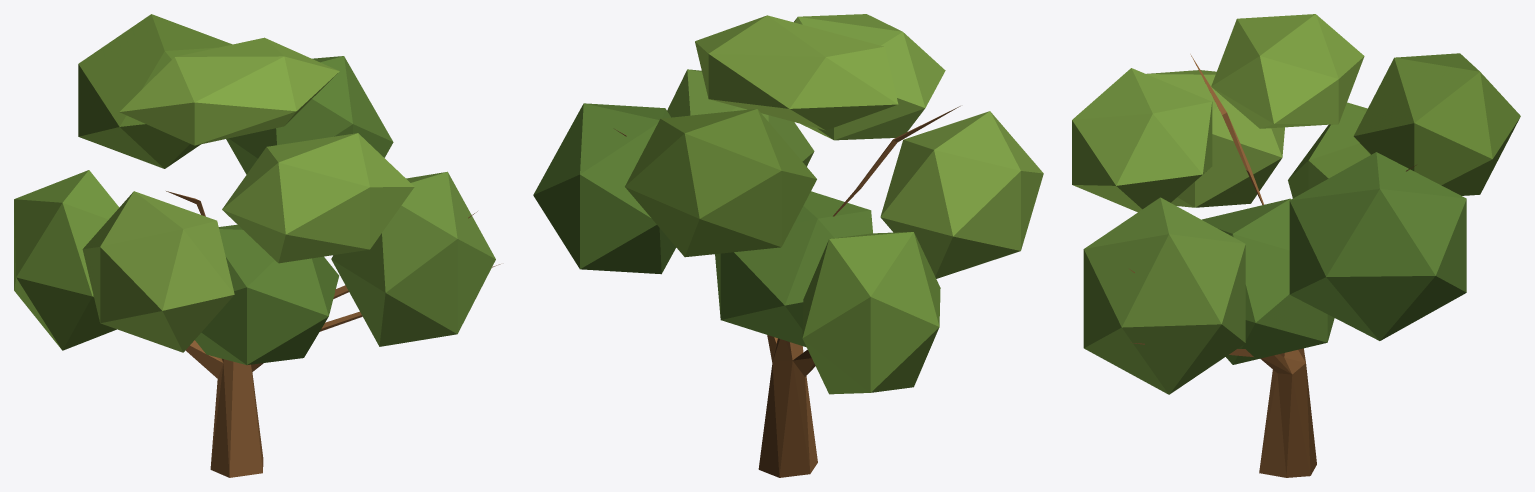
Rendered from elm_3_bloom_far.glb.
The picture shows the model from 3 angles, left to right: view 1: azimuth 30°, elevation 25°; view 2: azimuth 150°, elevation 25°; view 3: azimuth 270°, elevation 25°; orthographic projection. The views are drawn at different scales.
Visible parts, largest first — view 1: elm_3_bloom_far; view 2: elm_3_bloom_far; view 3: elm_3_bloom_far.
Boxes of the visible parts, x1,y1,x2,y2 form: elm_3_bloom_far: [14, 14, 500, 477]; elm_3_bloom_far: [533, 14, 1043, 477]; elm_3_bloom_far: [1072, 14, 1520, 477].
Size of the model in its own units: 6.05 by 6.36 by 6.04.
